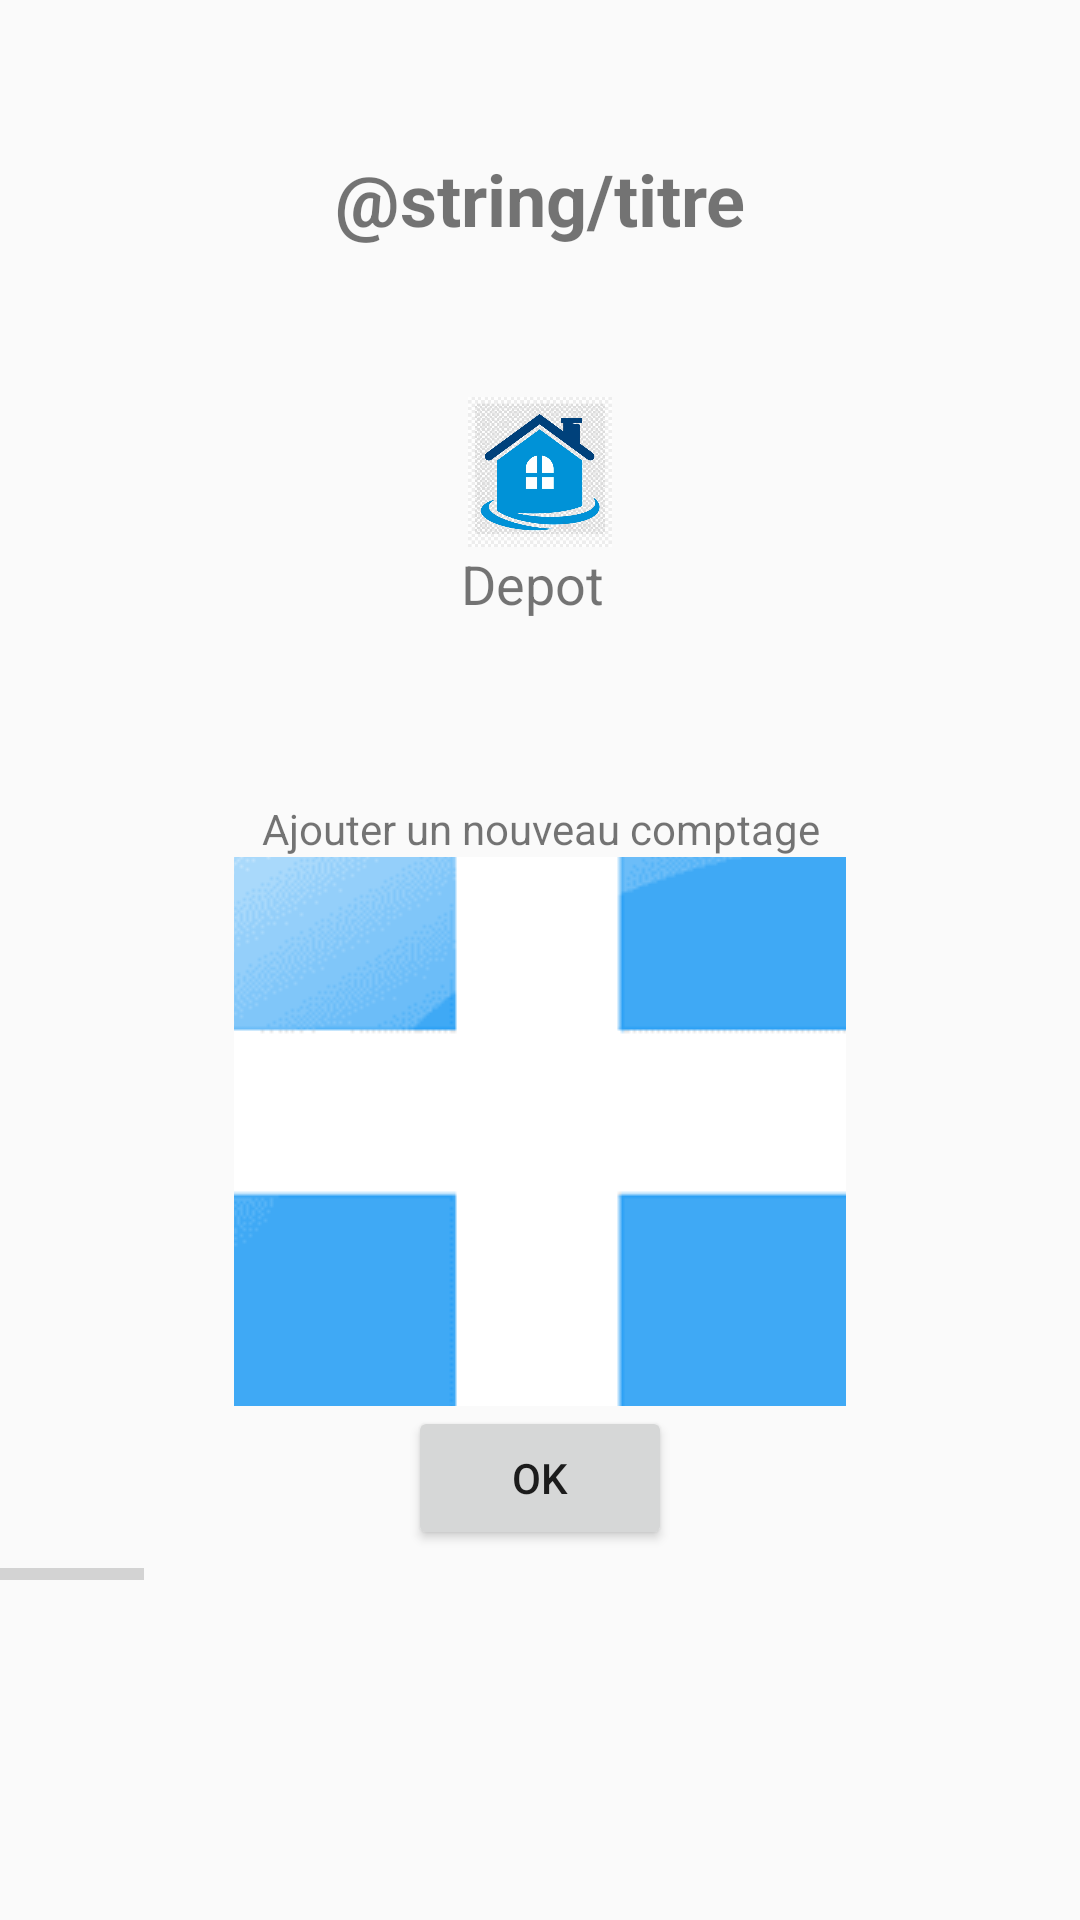

Point at icon controls on the screen. Image size 1080x1920, points as (x,y).
house: (540,469)
